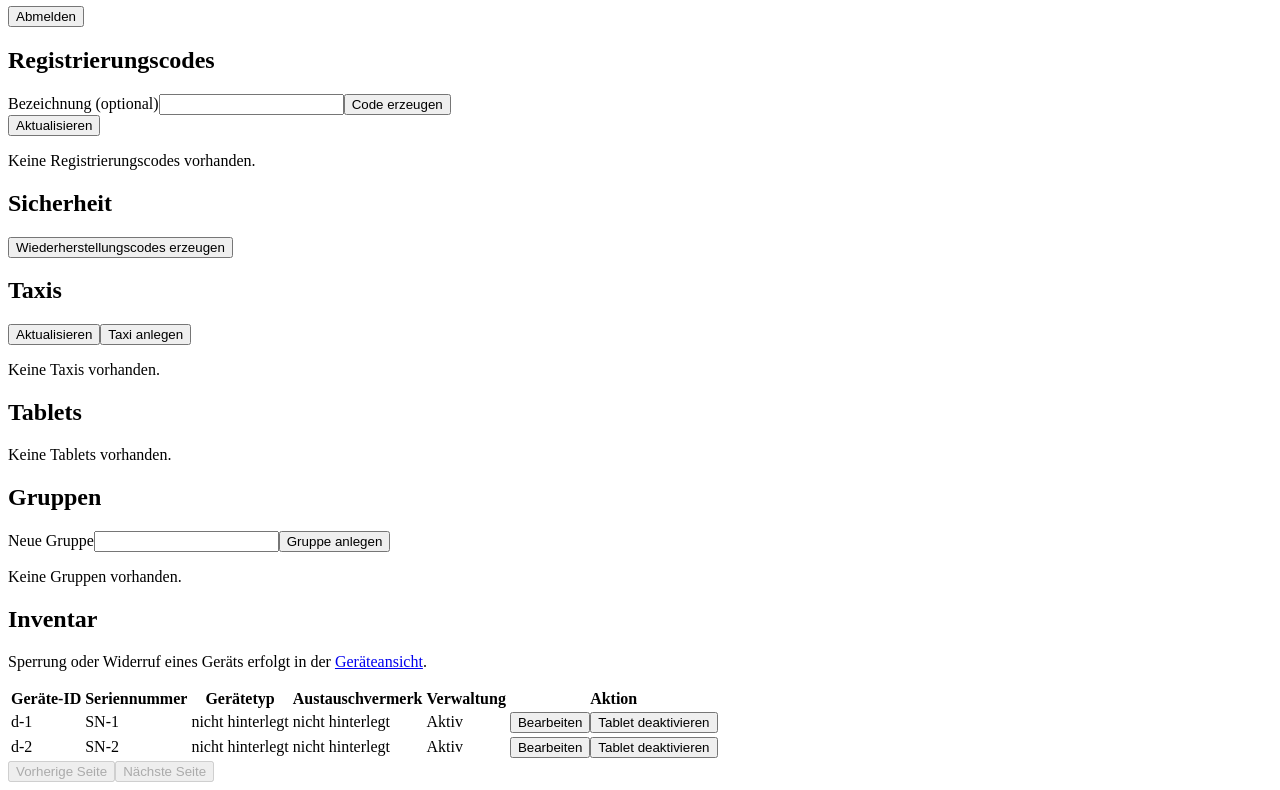
it: CX-143 Inventardatensatz bearbeiten › sendet die drei Felder mit Revision genau fuer das ausgewaehlte Tablet und zeigt die bestaetigten Daten
This screenshot has width=1280, height=790.
(page scrolled)
expect the cell "d-2" is shown: met, box left=10, top=736, right=82, bottom=759
Click the button "Bearbeiten" in the row of "d-2": (550, 747) left=510, top=737, right=590, bottom=758
(page scrolled)
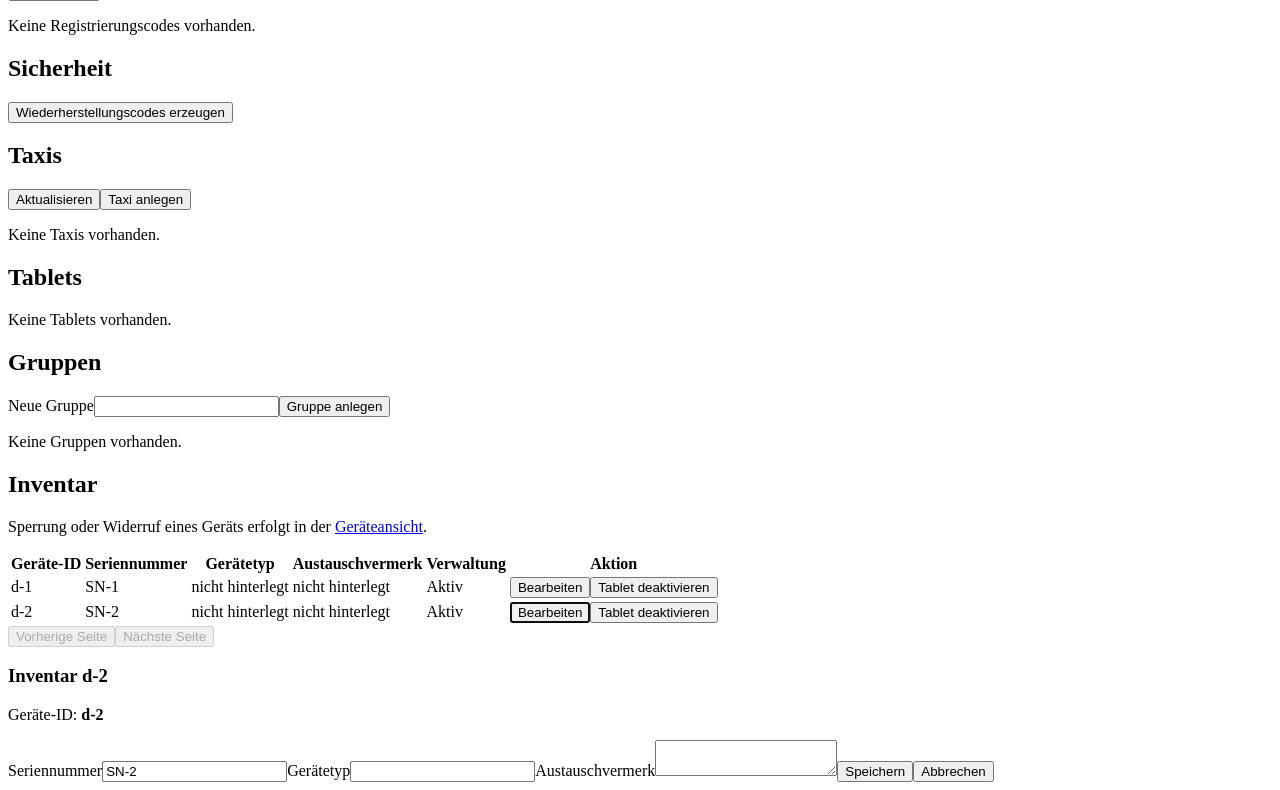
expect the field labelled "Seriennummer" holds "SN-2": met
Replace the text in the field labelled "Seriennummer" with "SN-2B": (195, 772) left=102, top=761, right=287, bottom=782
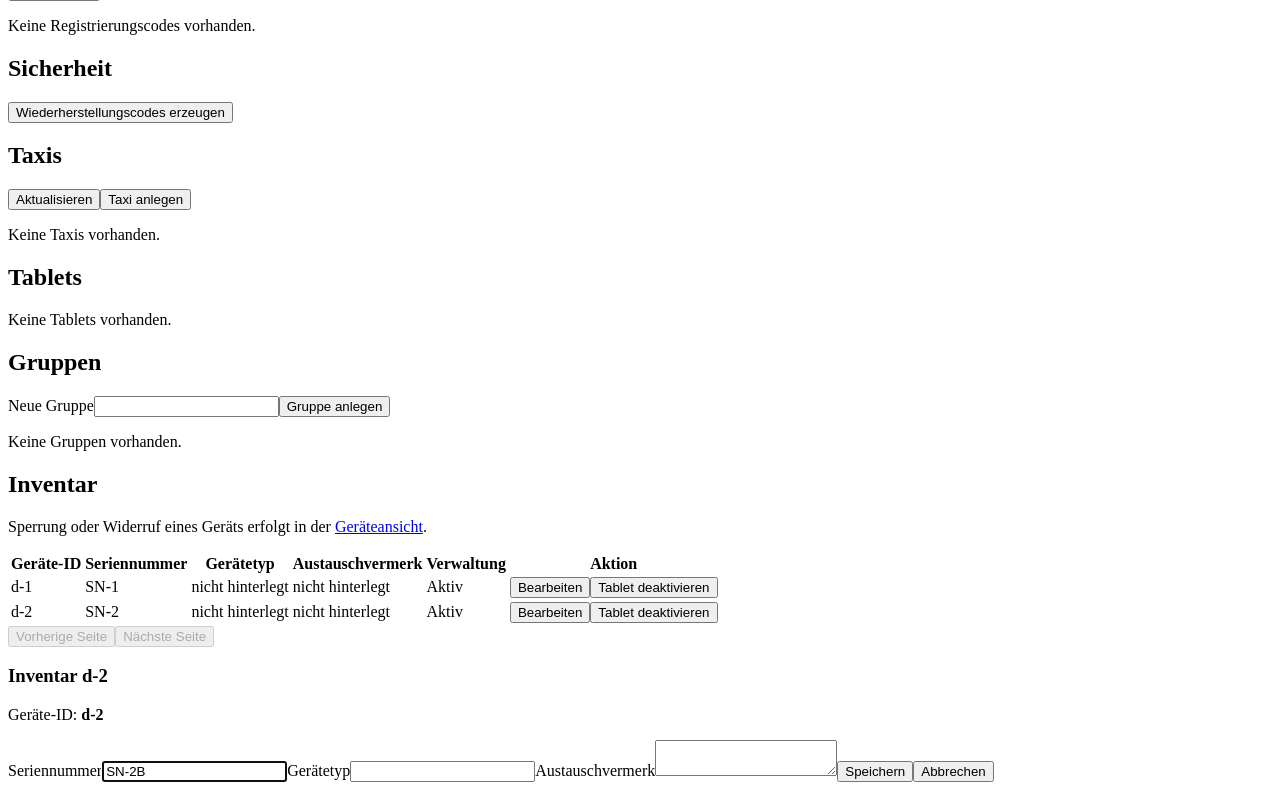
In the field labelled "Gerätetyp": (443, 772) left=350, top=761, right=535, bottom=782, type "Tab A9"
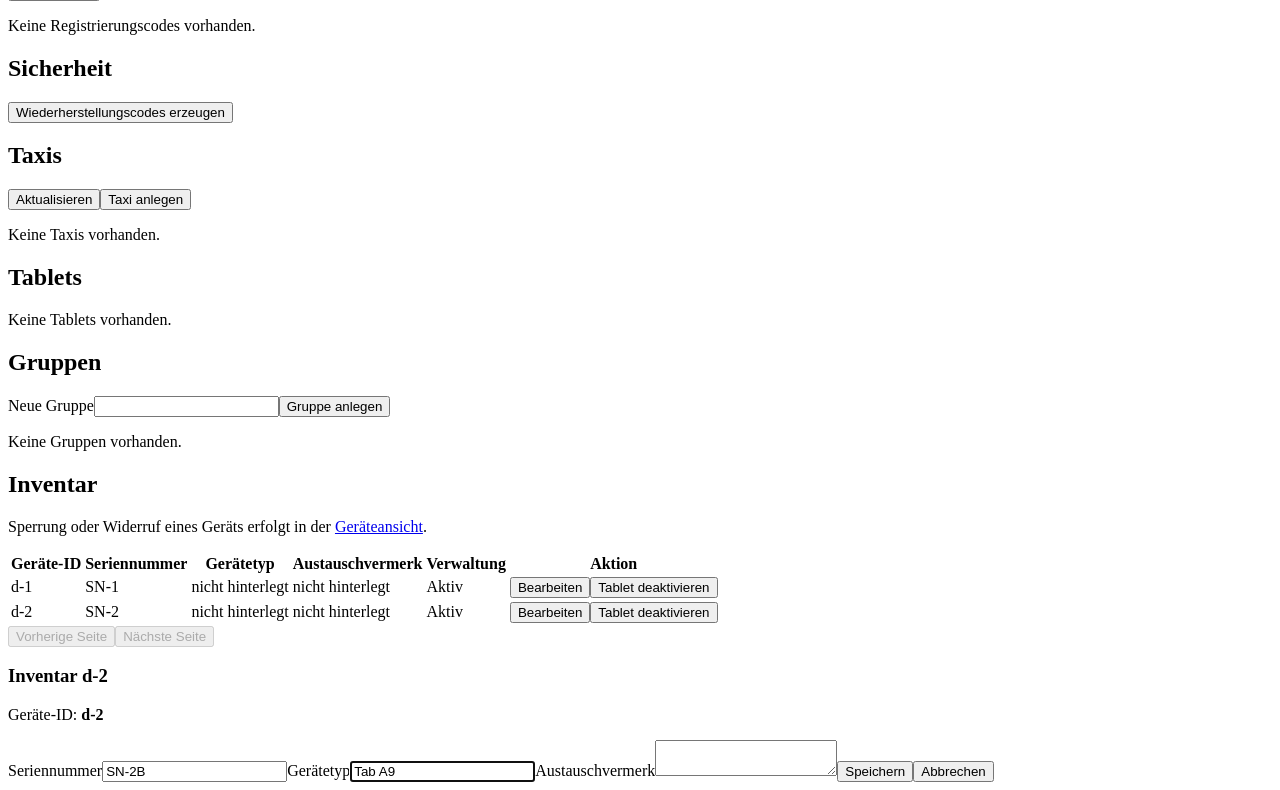
In the text box labelled "Austauschvermerk": (746, 758) left=655, top=740, right=837, bottom=776, type "Ersatz 11/2026"
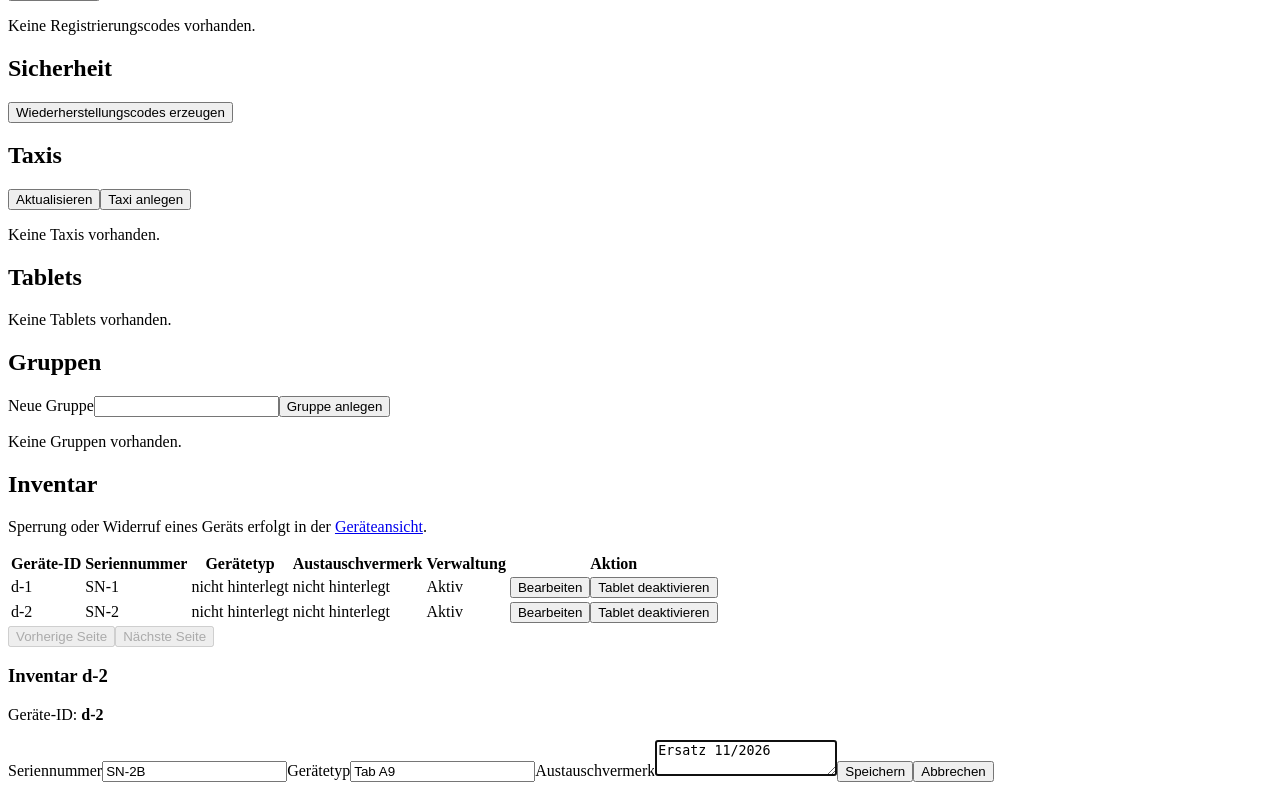
Click the button "Speichern": (875, 772) left=837, top=761, right=913, bottom=782
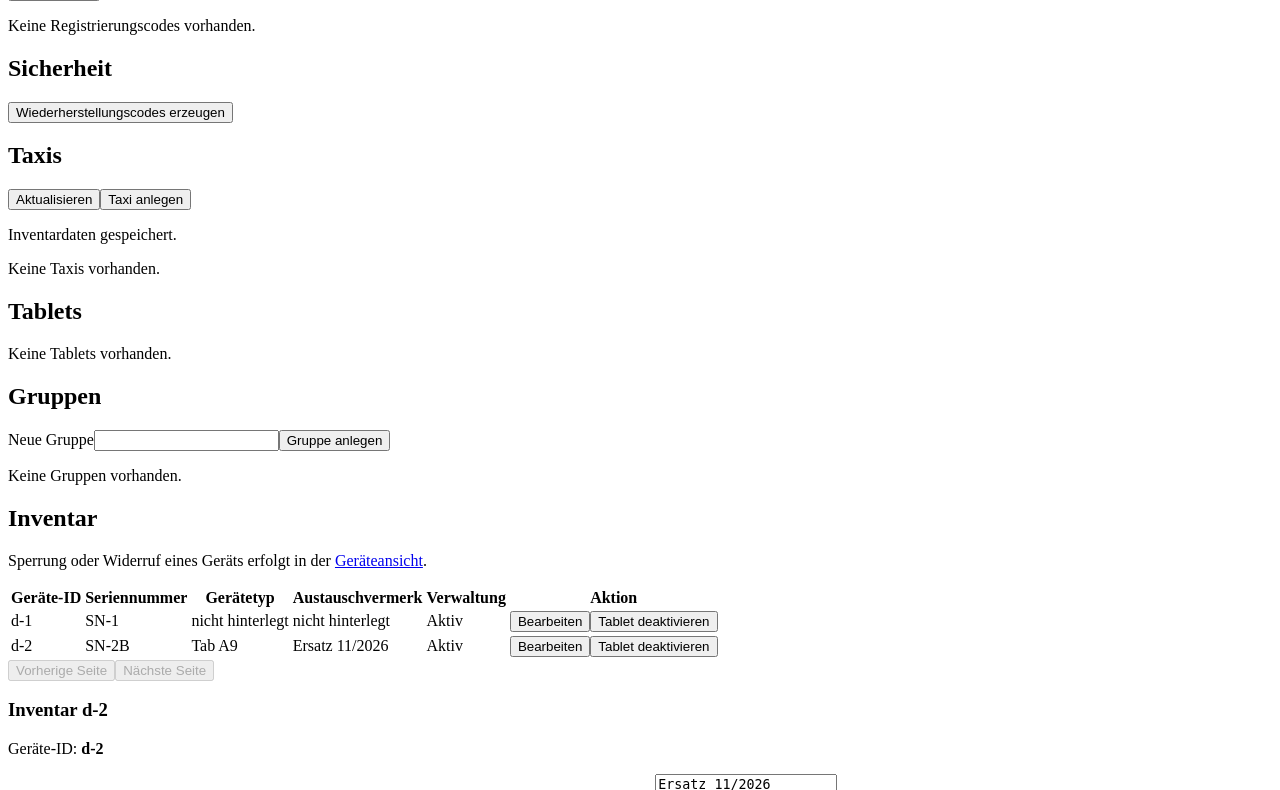
expect the text "SN-1" is shown: met, box left=84, top=610, right=188, bottom=633
expect the text "Inventardaten gespeichert." is shown: met, box left=8, top=226, right=177, bottom=243
expect the text "Tab A9" is shown: met, box left=190, top=635, right=290, bottom=658
